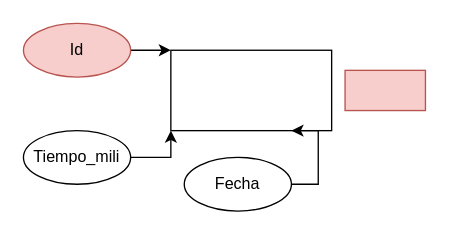
This 449x235 diagram has some shape labels left out. Here are the shapes that lost their labels. From the top down, the centre of each, then its label:
At point (251, 90): "Records".
At point (384, 90): "PK".
